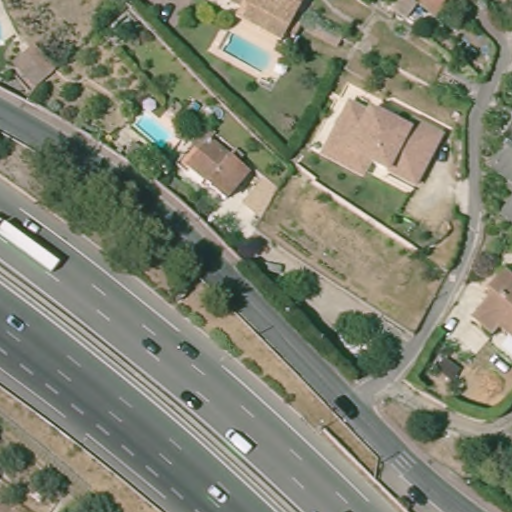pool: (217, 31, 281, 79), (129, 105, 187, 152)
